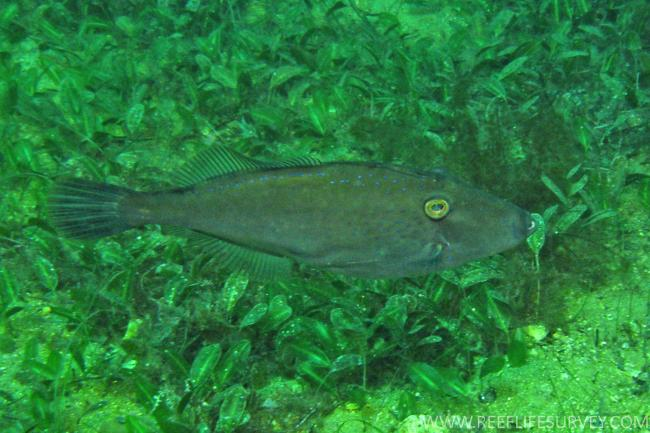fish: (49, 143, 538, 271)
